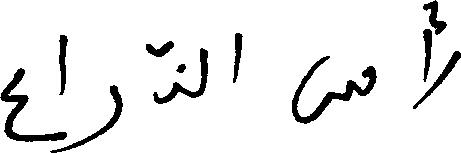X: (293, 51, 375, 128), (145, 36, 184, 108), (86, 80, 121, 147), (424, 0, 444, 104), (0, 63, 25, 146), (446, 19, 460, 81), (59, 30, 66, 152), (235, 28, 240, 86), (200, 43, 205, 100)
